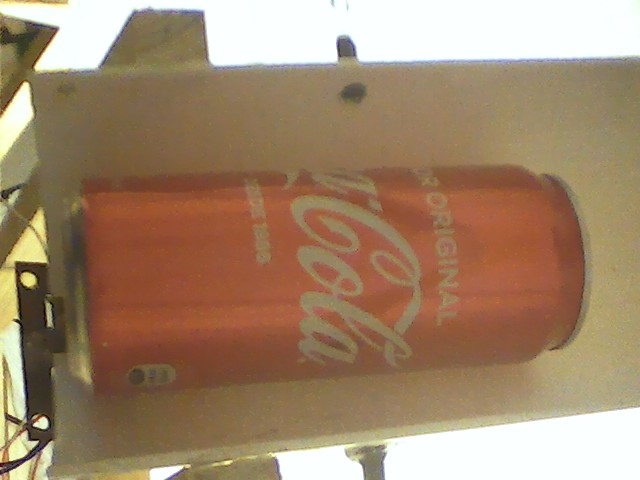lata: (67, 162, 599, 405)
